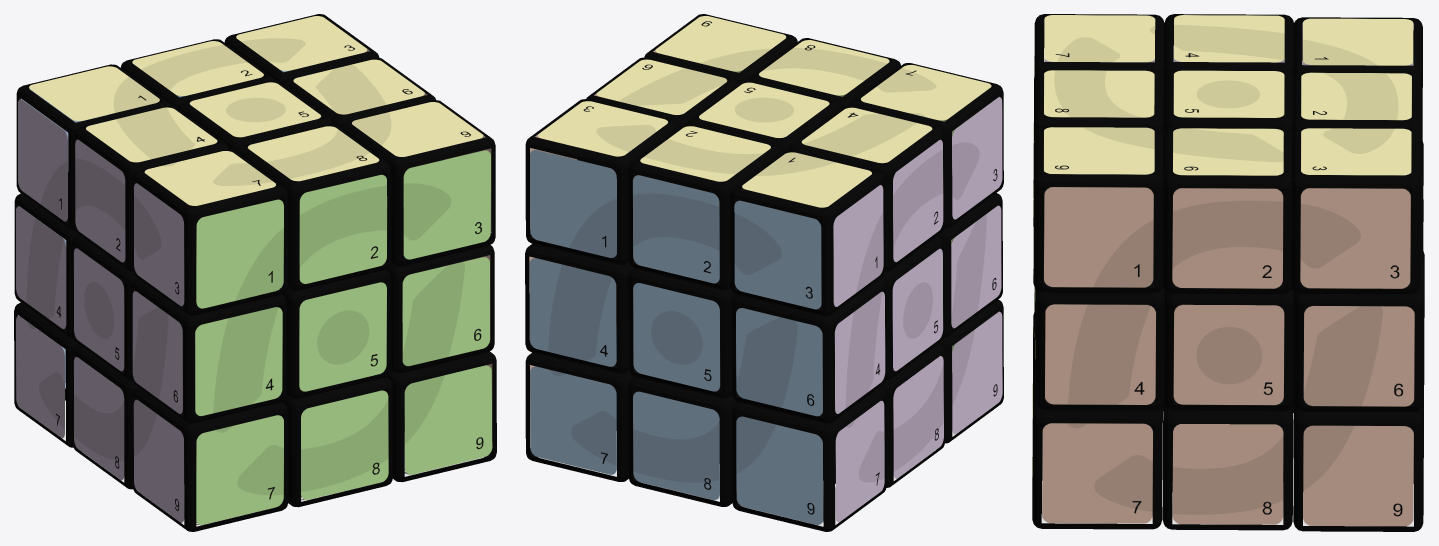
Rendered from Rubix_cube_transparent_12.glb.
3 views of the same model, side by side, from view 1: azimuth 30°, elevation 25°; view 2: azimuth 150°, elevation 25°; view 3: azimuth 270°, elevation 25° (orthographic). The views are drawn at different scales.
Visible parts, largest first — view 1: s3_block_7, s3_block_2, s3_block_5, s3_block_8, s3_block_3, s3_block_4, s3_block_6, s3_block_1, s3_block_9, top_block_7.001, s4_block_9, s4_block_5 (+34 smaller); view 2: s1_block_3, s1_block_4, s1_block_5, s1_block_9, s1_block_8, s1_block_6, s1_block_2, s1_block_7, s1_block_1, top_block_1.001, btm_block_1.001, s4_block_6 (+34 smaller); view 3: s2_block_6, s2_block_8, s2_block_9, s2_block_2, s2_block_4, s2_block_3, s2_block_7, s2_block_5, s2_block_1, top_block_9, top_block_3.001, top_block_6.001 (+21 smaller).
Boxes of the visible parts, left/top/right/bottom form: s3_block_7: left=196, top=415, right=283, bottom=524; s3_block_2: left=299, top=174, right=387, bottom=283; s3_block_5: left=299, top=282, right=386, bottom=391; s3_block_8: left=301, top=390, right=388, bottom=499; s3_block_3: left=403, top=150, right=490, bottom=259; s3_block_4: left=195, top=307, right=282, bottom=415; s3_block_6: left=402, top=257, right=489, bottom=366; s3_block_1: left=196, top=199, right=283, bottom=308; s3_block_9: left=404, top=365, right=492, bottom=474; top_block_7.001: left=132, top=149, right=288, bottom=315; s4_block_9: left=133, top=399, right=184, bottom=522; s4_block_5: left=73, top=248, right=124, bottom=371; s1_block_3: left=734, top=200, right=821, bottom=309; s1_block_4: left=529, top=258, right=616, bottom=366; s1_block_5: left=633, top=283, right=720, bottom=391; s1_block_9: left=736, top=416, right=823, bottom=524; s1_block_8: left=633, top=391, right=719, bottom=500; s1_block_6: left=736, top=308, right=822, bottom=416; s1_block_2: left=632, top=175, right=719, bottom=283; s1_block_7: left=530, top=366, right=616, bottom=474; s1_block_1: left=530, top=150, right=616, bottom=257; top_block_1.001: left=730, top=150, right=884, bottom=316; btm_block_1.001: left=732, top=387, right=886, bottom=531; s4_block_6: left=951, top=205, right=1001, bottom=328; s2_block_6: left=1303, top=306, right=1414, bottom=406; s2_block_8: left=1172, top=424, right=1283, bottom=524; s2_block_9: left=1303, top=425, right=1413, bottom=526; s2_block_2: left=1172, top=188, right=1283, bottom=288; s2_block_4: left=1045, top=304, right=1155, bottom=404; s2_block_3: left=1300, top=188, right=1410, bottom=288; s2_block_7: left=1042, top=423, right=1152, bottom=523; s2_block_5: left=1173, top=304, right=1284, bottom=405; s2_block_1: left=1044, top=187, right=1153, bottom=287; top_block_9: left=1033, top=126, right=1163, bottom=293; top_block_3.001: left=1291, top=127, right=1421, bottom=294; top_block_6.001: left=1163, top=127, right=1292, bottom=294.
Size of the model in its own units: 6.08 by 6.09 by 6.04.
7 materials, 6 textured.
